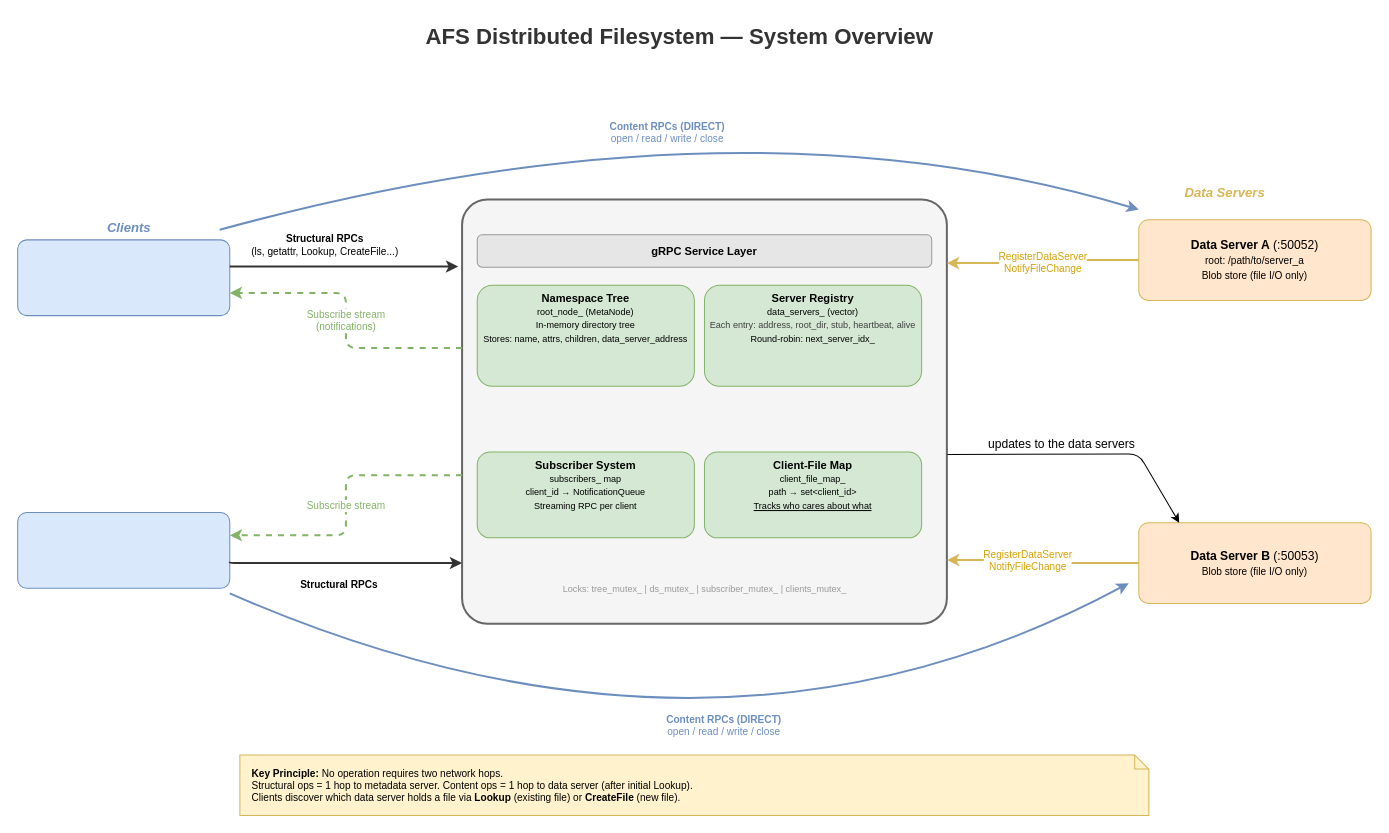
Some shapes in this 1389 by 833 pixel diagram are drawn without their labels. Each missing label, with the box of its shape:
Client 1 FUSE mount + local cache: (17, 239, 230, 316)
Client 2 FUSE mount + local cache: (17, 512, 230, 588)
Metadata Server: (461, 198, 947, 624)
